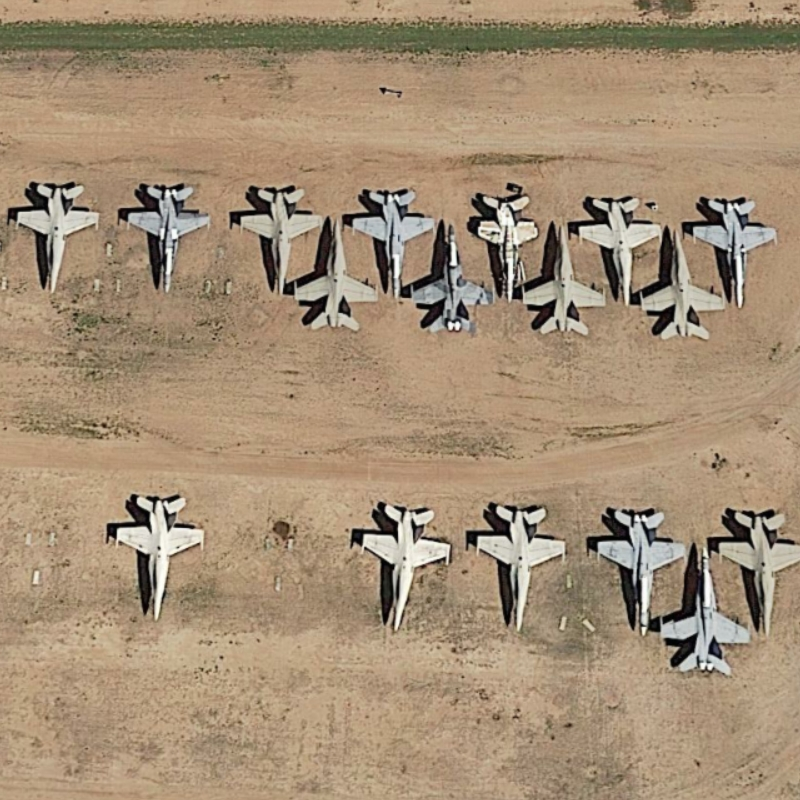A16: (100, 489, 218, 626), (467, 494, 576, 642), (583, 496, 685, 639), (350, 491, 454, 628), (657, 539, 750, 678), (520, 212, 612, 350), (120, 175, 221, 298), (709, 506, 800, 638), (9, 173, 103, 298), (231, 177, 326, 300), (575, 181, 664, 311), (637, 223, 731, 345), (686, 194, 782, 313), (291, 212, 381, 333), (348, 178, 435, 303), (408, 222, 499, 341), (465, 182, 542, 305)
